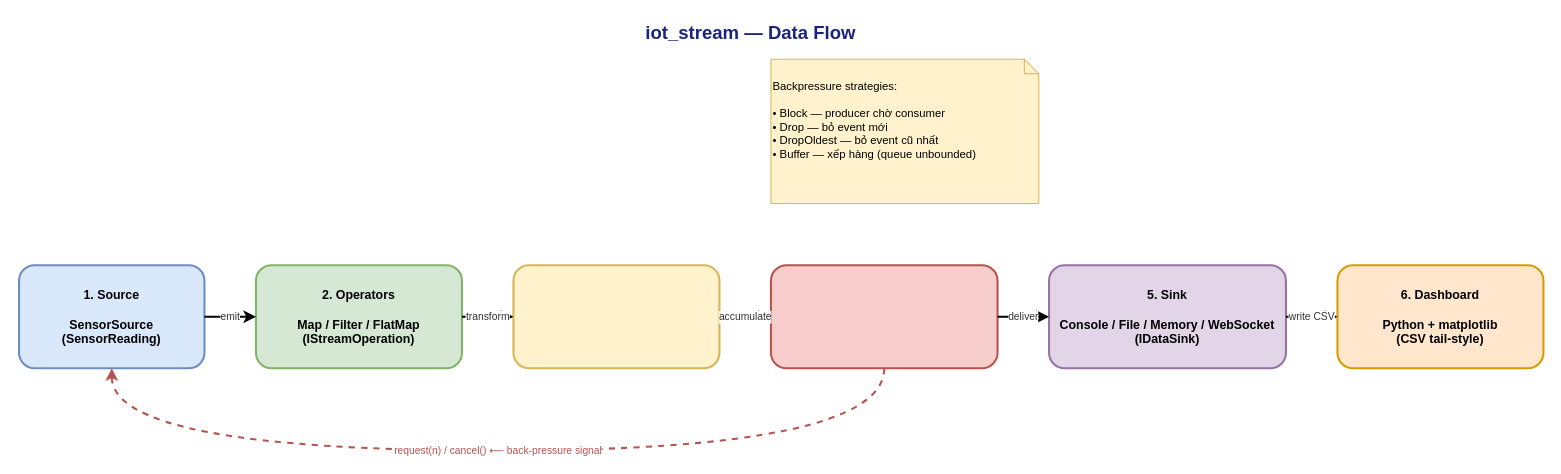
This 1561x474 diagram has some shape labels left out. The shapes that lost their labels are listed below. From the top down, each one's box as (x1, y1, x2, y2) in pixels, then its label:
(512, 264, 720, 369): 3. Windowing Tumbling / Sliding / Count (IWindowStrategy)
(769, 264, 998, 369): 4. Backpressure Block / Drop / DropOldest / Buffer (BackpressureSubscription)
